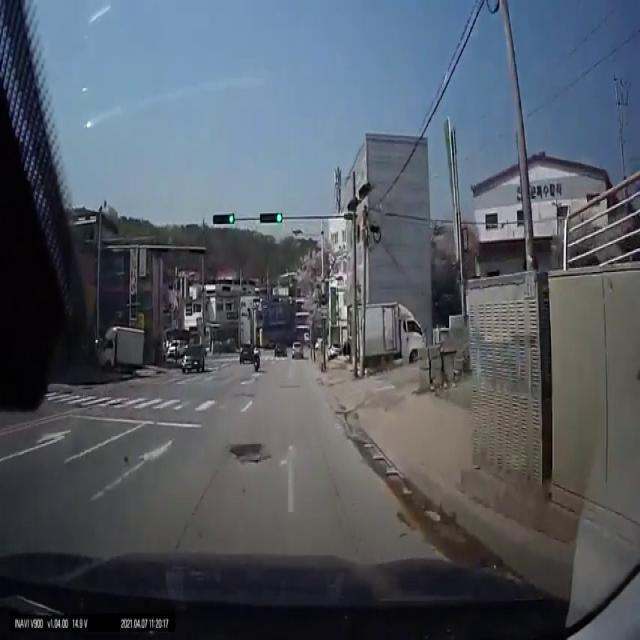pothole: (229, 439, 265, 461)
